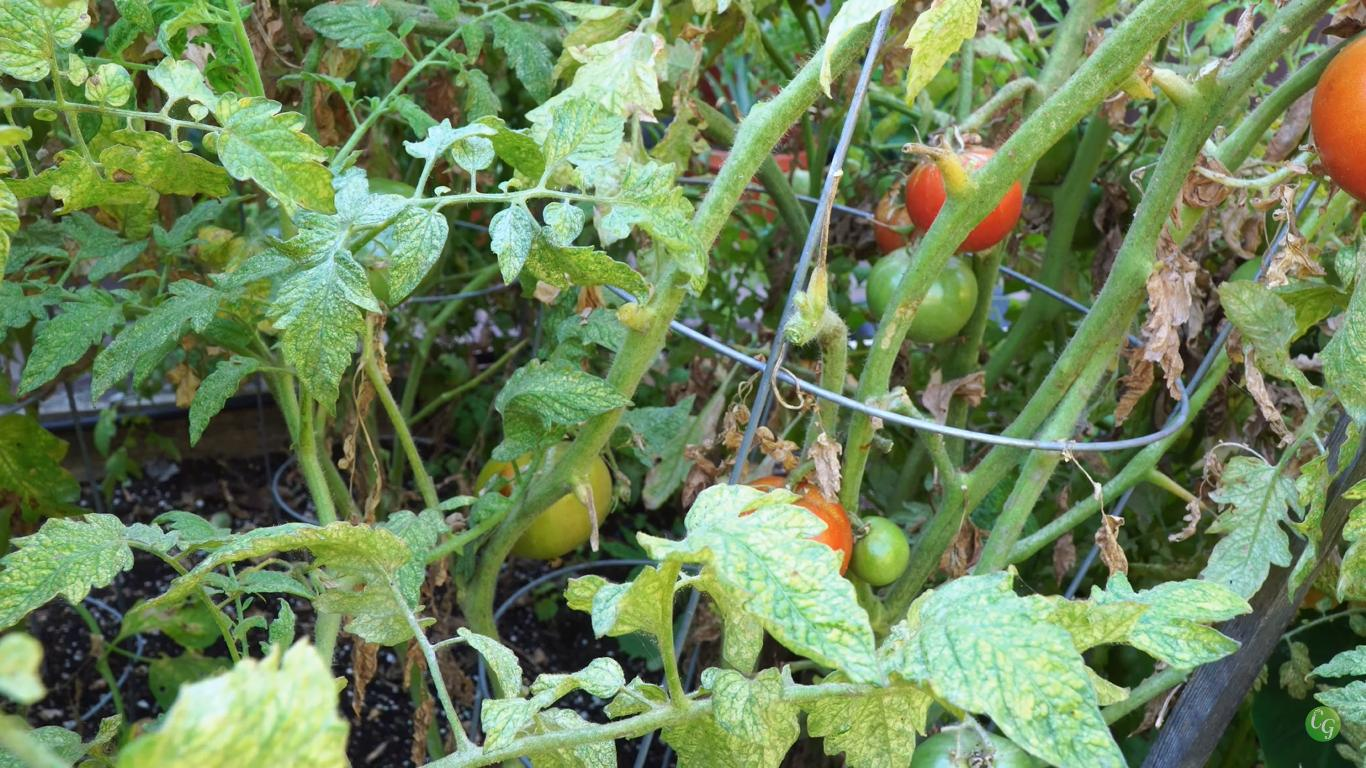Spider Mites: (633, 478, 891, 692), (884, 561, 1133, 768), (126, 518, 412, 618), (266, 241, 386, 418), (1081, 564, 1257, 672), (0, 508, 140, 633), (91, 278, 222, 407), (1196, 456, 1309, 602), (594, 157, 711, 298), (216, 94, 343, 220), (478, 653, 626, 757), (12, 285, 127, 398), (807, 671, 937, 768), (694, 656, 801, 768), (524, 223, 652, 312), (497, 352, 643, 430), (0, 0, 94, 83), (1213, 276, 1300, 363), (185, 350, 261, 449), (383, 507, 449, 608), (386, 207, 451, 309), (489, 16, 561, 107), (538, 95, 627, 165), (454, 621, 523, 699), (299, 2, 392, 50), (487, 201, 534, 289), (85, 62, 136, 108), (540, 198, 587, 247), (453, 133, 493, 173)
